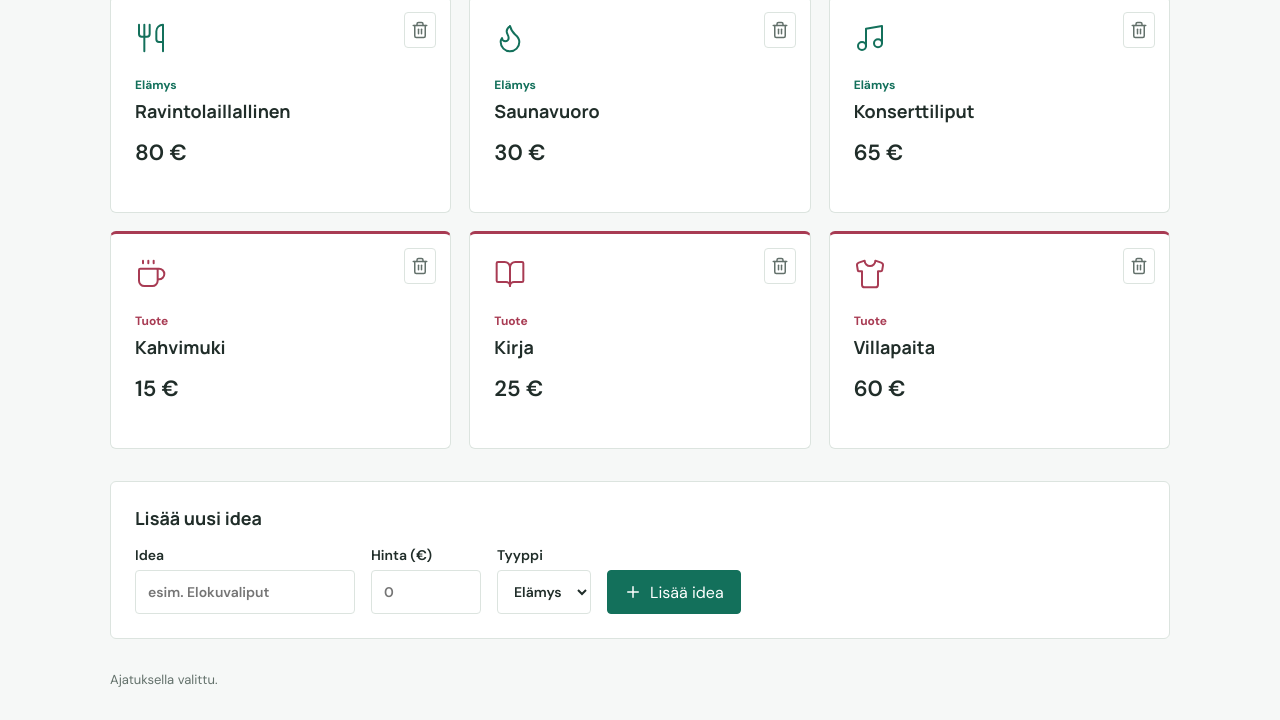
Test case: gift ideas screen › shows an error when creating a gift idea fails
The image size is (1280, 720).
(page scrolled)
Expected: the heading "Kirja" is shown, [494,335,534,359]
Type "Elokuvaliput" into the field labelled "Idea" at (245, 592), box [135,570,355,614]
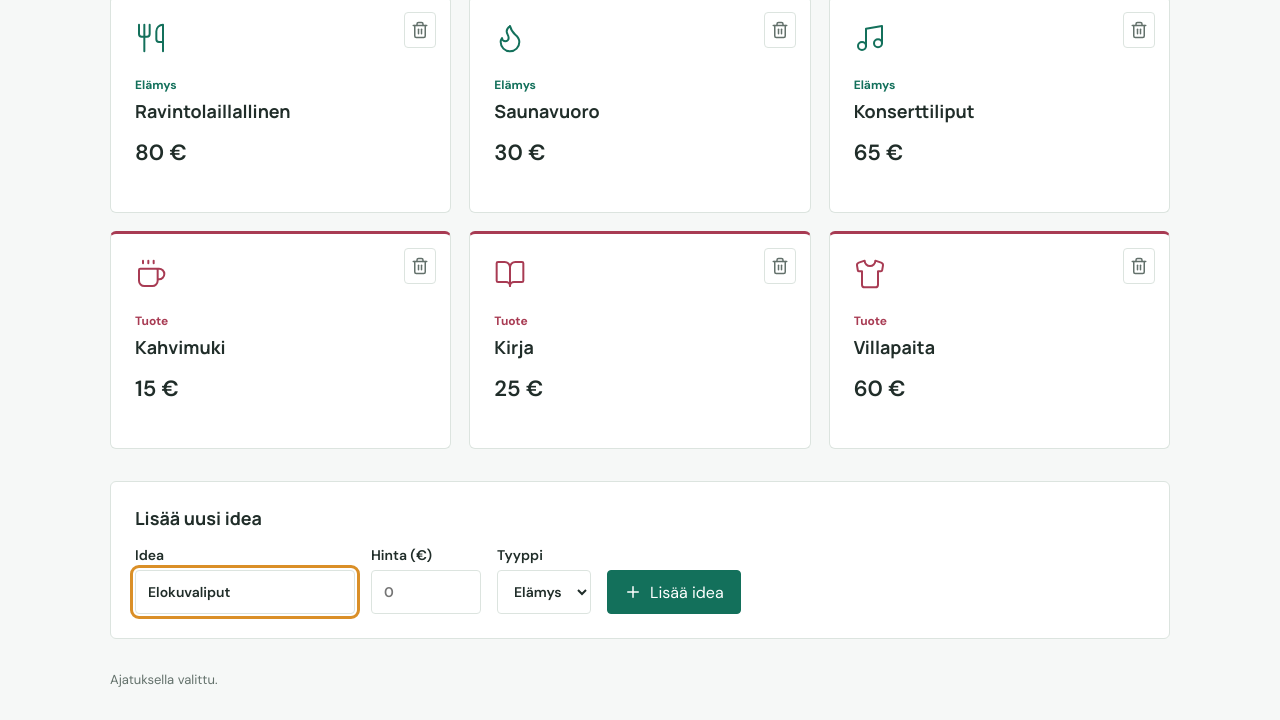
Type "24" into the number field labelled "Hinta (€)" at (426, 592), box [371,570,481,614]
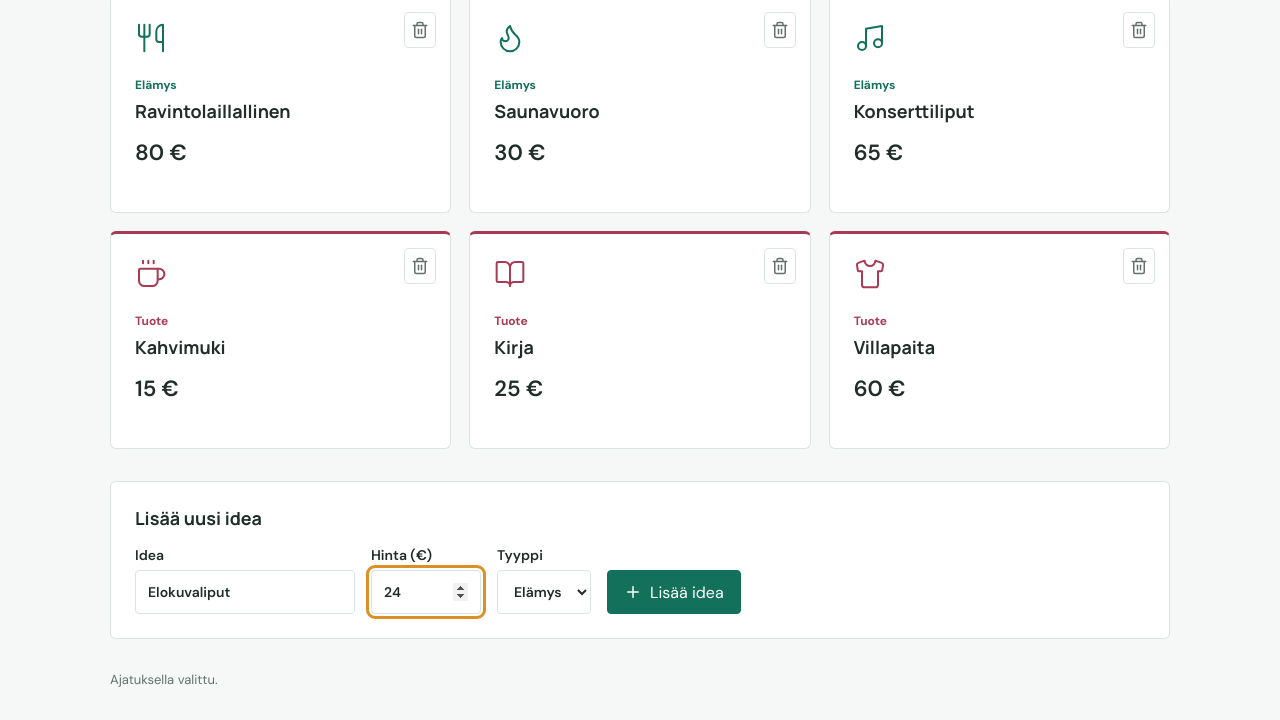
Click the button "Lisää idea" at (674, 592), box [607,570,741,614]
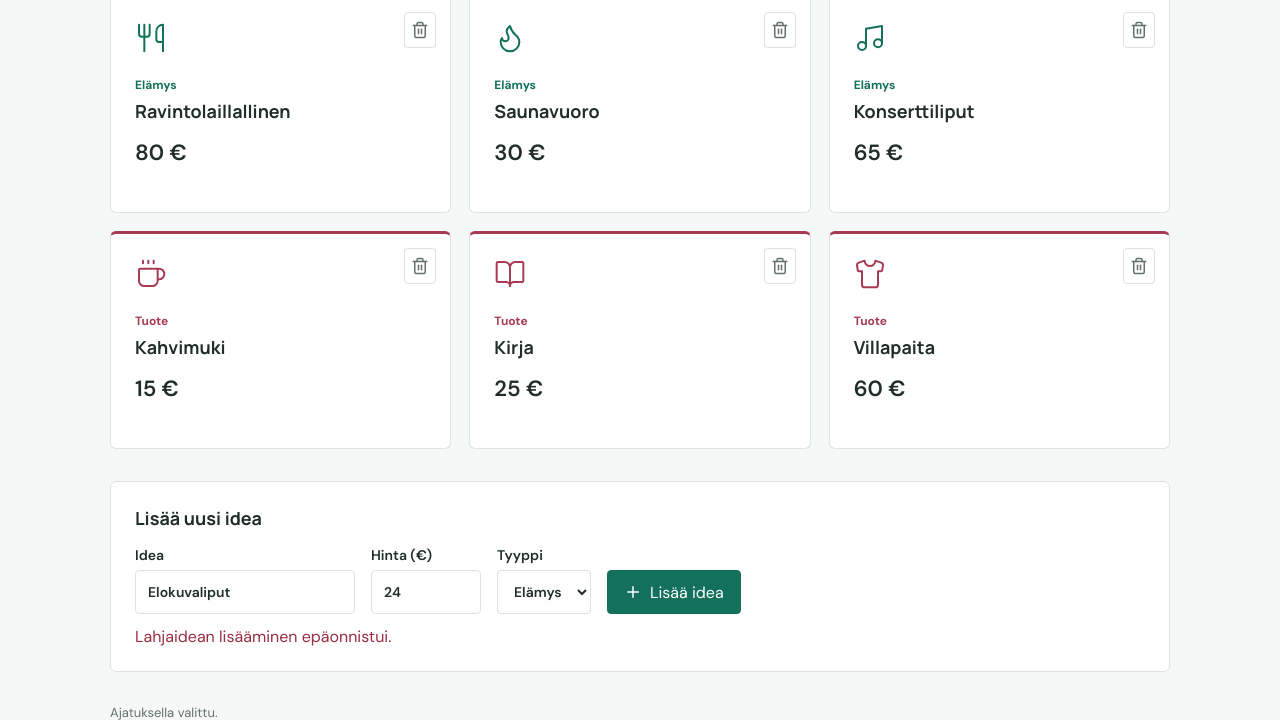
Expected: the message reads "Lahjaidean lisääminen epäonnistui.", [135,626,391,647]
